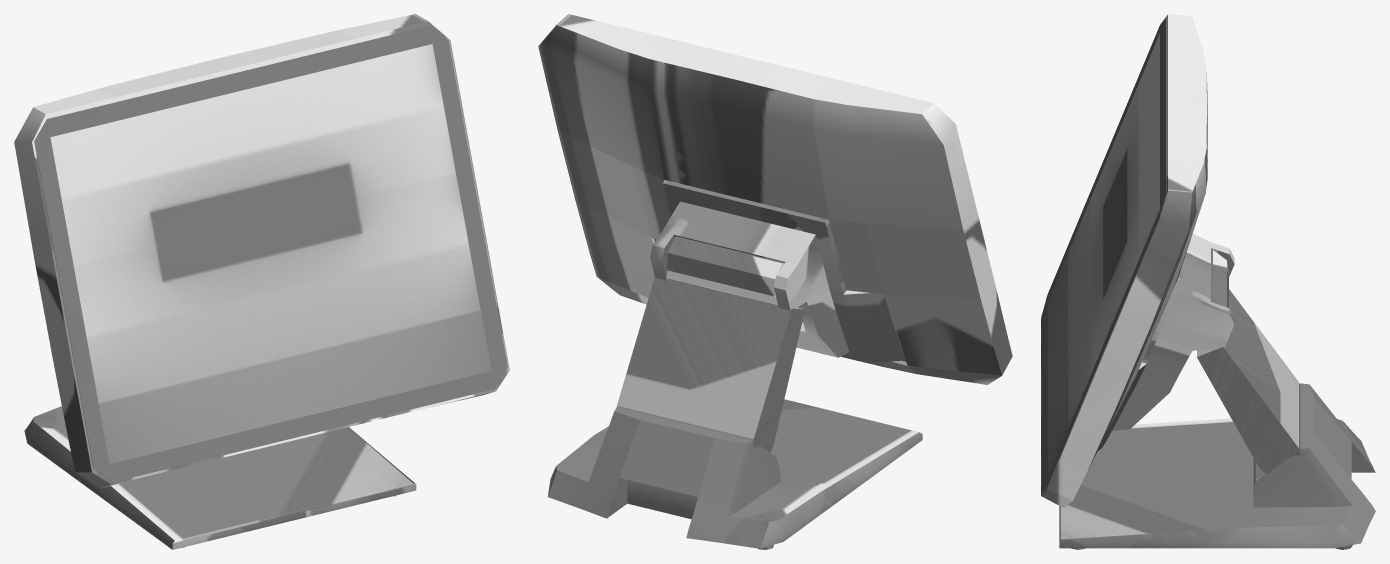
The model's file is UPOS_211.fbx.
The picture shows the model from 3 angles, left to right: view 1: azimuth 30°, elevation 25°; view 2: azimuth 150°, elevation 25°; view 3: azimuth 270°, elevation 25°; orthographic projection. The views are drawn at different scales.
Parts seen in each view (by area): view 1: A, C, D, B; view 2: B, D, G, E; view 3: D, A, B, G, E, C.
Boxes of the visible parts, x1,y1,x2,y2 form: A: (50, 44, 491, 463); C: (34, 26, 507, 482); D: (24, 406, 416, 549); B: (14, 14, 509, 488); B: (538, 14, 1012, 384); D: (548, 399, 922, 549); G: (616, 236, 805, 452); E: (650, 180, 905, 362); D: (1059, 383, 1375, 549); A: (1047, 33, 1159, 477); B: (1041, 14, 1207, 508); G: (1197, 250, 1300, 473); E: (1098, 234, 1234, 450); C: (1041, 18, 1166, 493).
Size of the model in its own units: 34.81 by 32.66 by 25.13.
